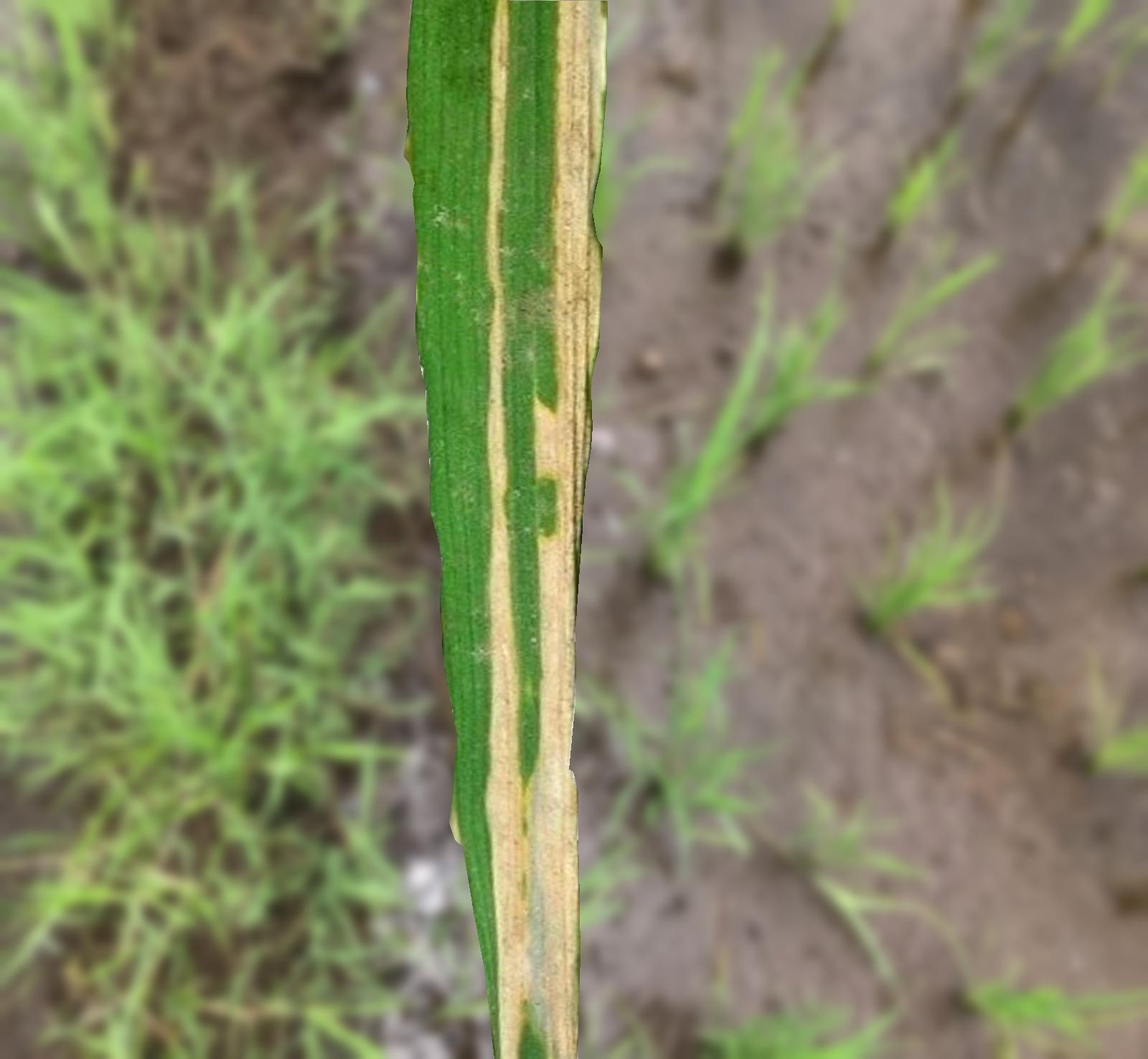BLB: (471, 0, 606, 1058)
LEAF: (403, 0, 607, 1058)
